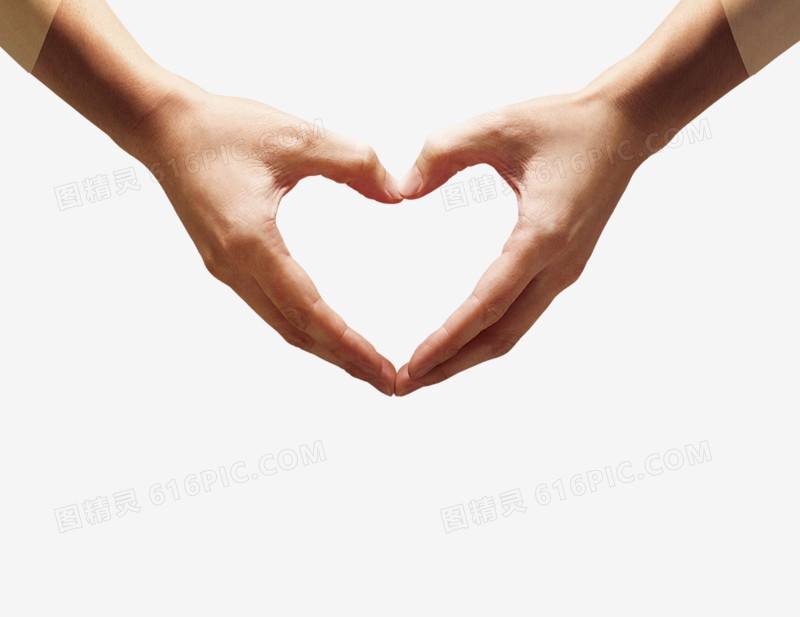no-phone: (392, 72, 644, 396), (144, 88, 401, 398)
